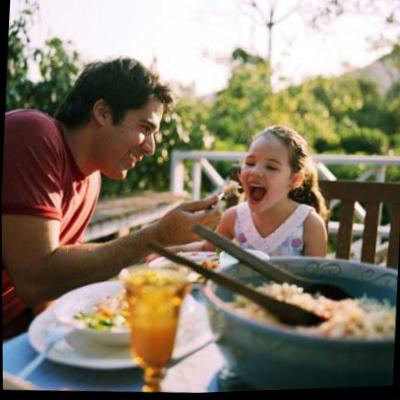happy: (106, 98, 163, 185), (239, 142, 289, 216)
